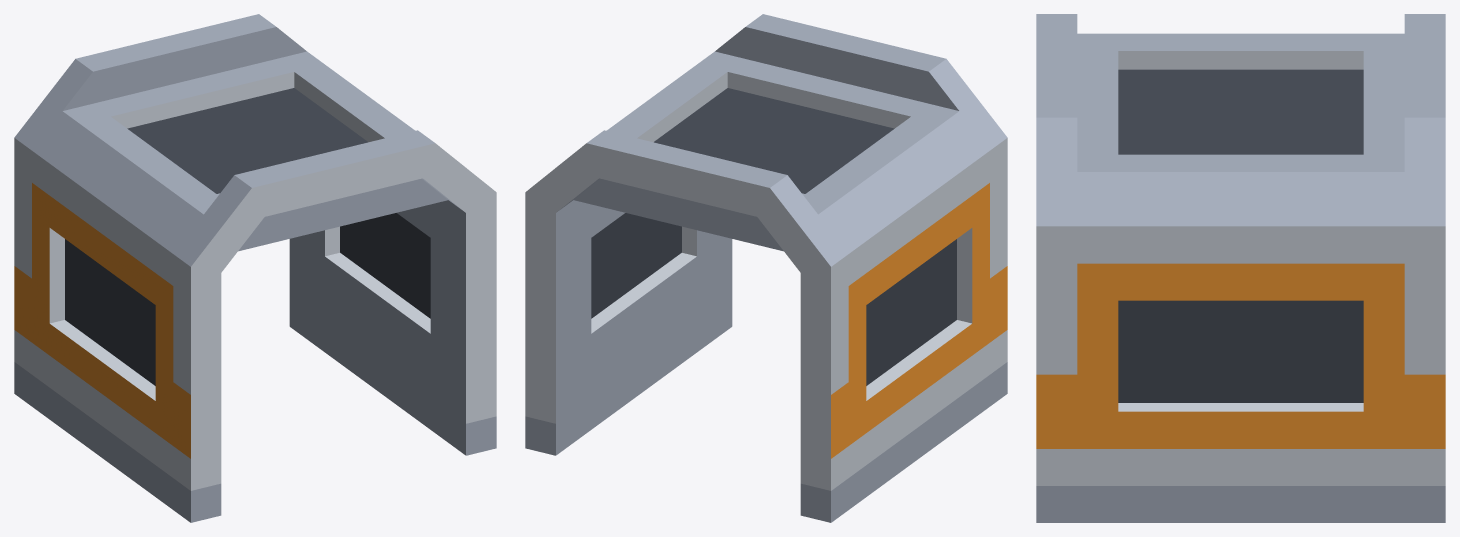
The model's file is corridor_windowClosed.glb.
3 renders of one model, left to right at view 1: azimuth 30°, elevation 25°; view 2: azimuth 150°, elevation 25°; view 3: azimuth 270°, elevation 25°, orthographic. The views are drawn at different scales.
Parts seen in each view (by area): view 1: corridor_windowClosed; view 2: corridor_windowClosed; view 3: corridor_windowClosed.
Boxes of the visible parts, left/top/right/bottom form: corridor_windowClosed: left=14, top=14, right=496, bottom=522; corridor_windowClosed: left=525, top=14, right=1007, bottom=522; corridor_windowClosed: left=1036, top=14, right=1445, bottom=522.
Size of the model in its own units: 1 by 1 by 1.
